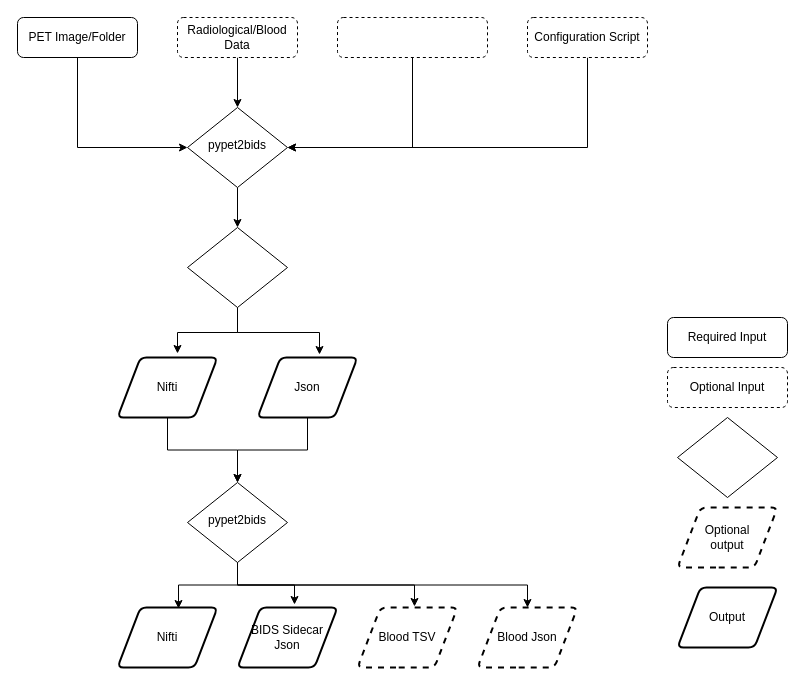
Image size: 805x686. Some labels were removed from this diagram. Here are the shapes that lost their labels. From the top down, the centre of each, then its label:
At point 412,37: "Additional Arguments (e.g. TimeZero=12:12:12)".
At point 237,267: "Dcm2niix".
At point 727,457: "Software Interface".
